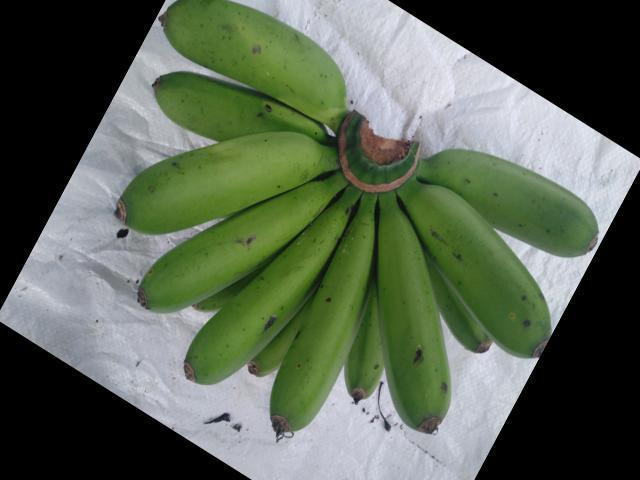unripe: (174, 212, 363, 384), (113, 189, 354, 318), (401, 174, 558, 372), (64, 121, 369, 222), (260, 225, 391, 435), (420, 140, 606, 261), (372, 196, 461, 440), (159, 0, 348, 109), (149, 54, 311, 146)
